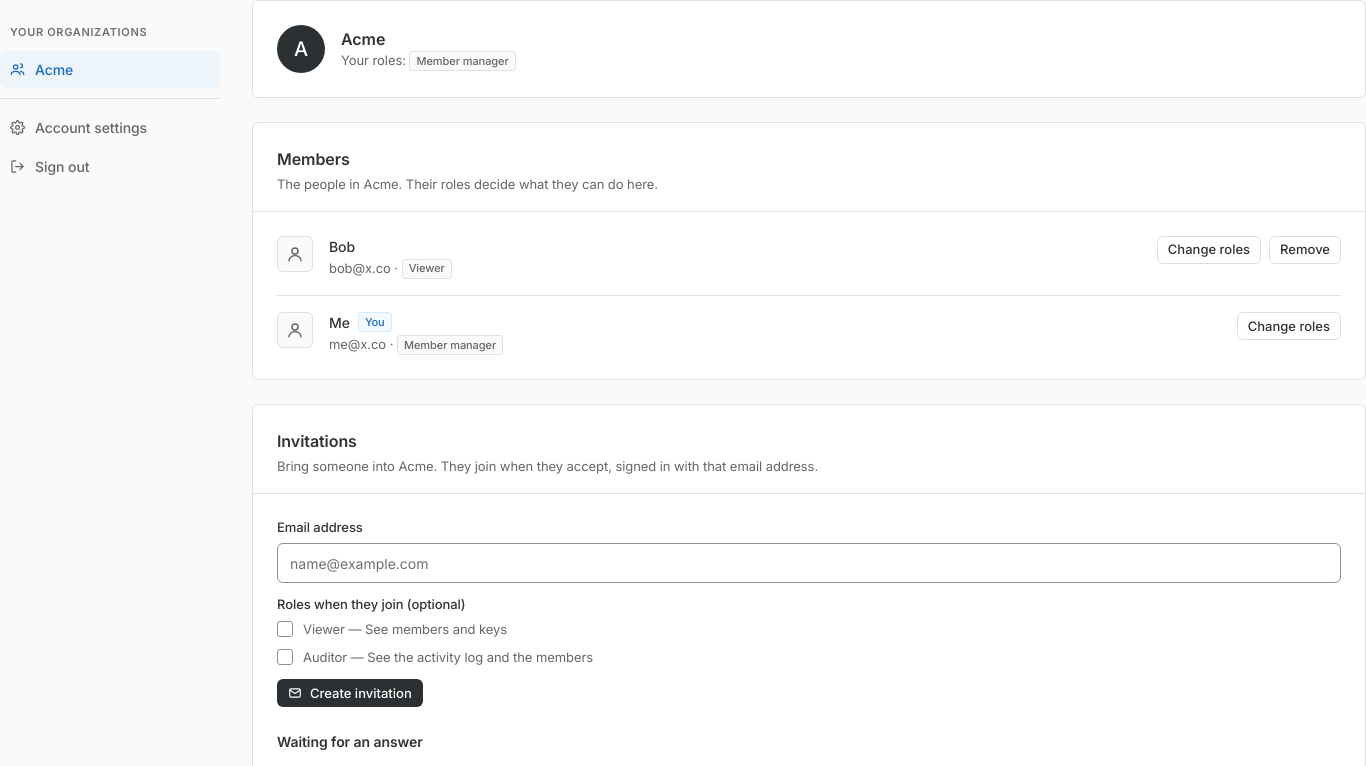
Test: AccountView › shows a role refusal in words
This screenshot has width=1366, height=766.
Step 1. Click the button with aria-label "Change roles of Bob" → (1209, 250), box [1157,236,1261,264]
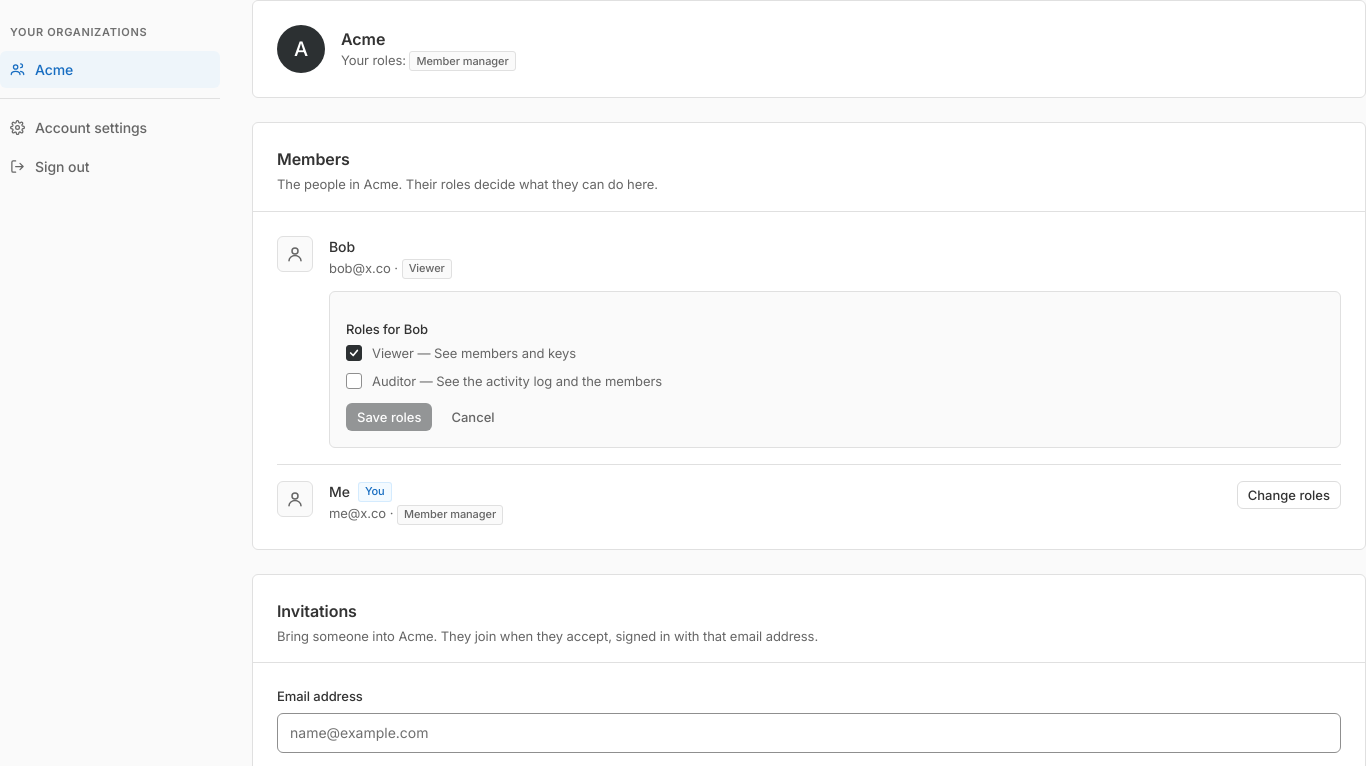
Step 2. Click the text "Auditor" → (517, 382), box [372,372,662,392]
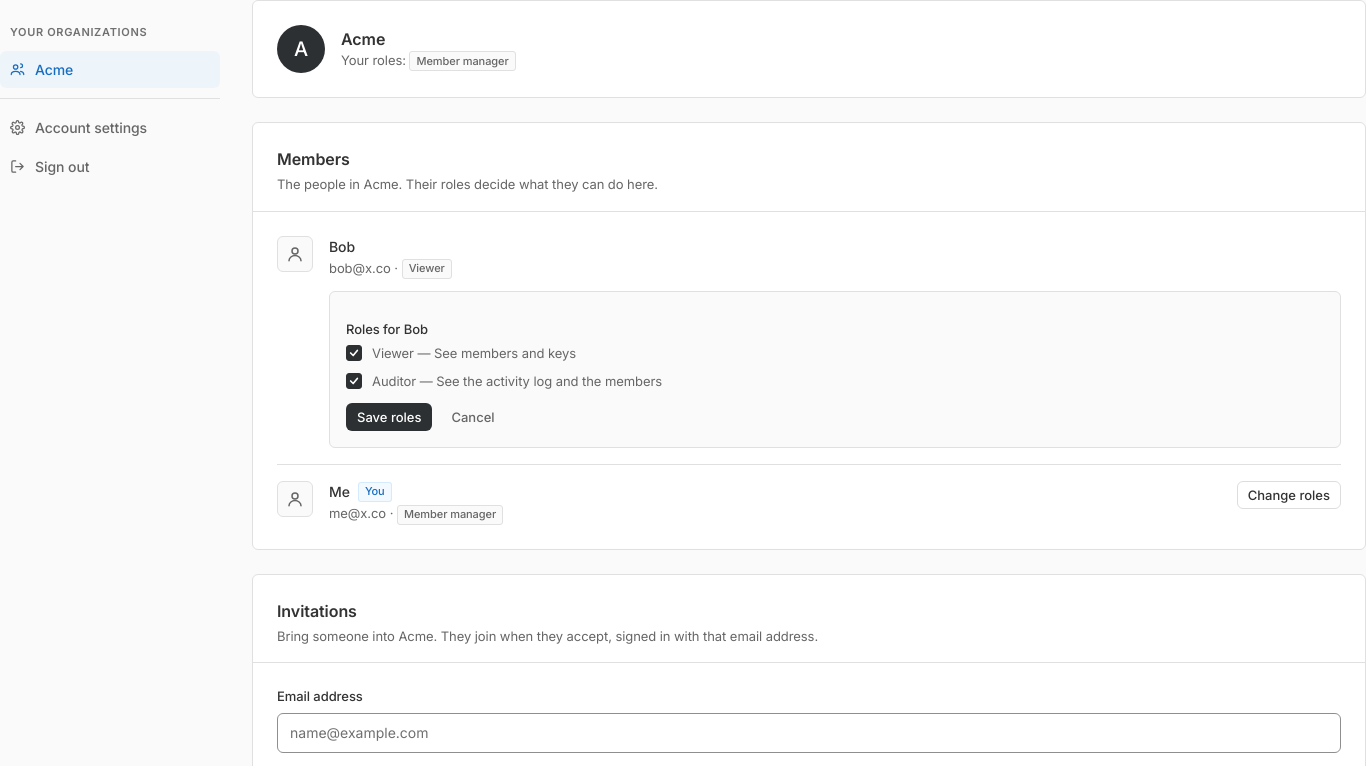
Step 3. Click the button "Save roles" → (389, 418), box [346,404,432,432]
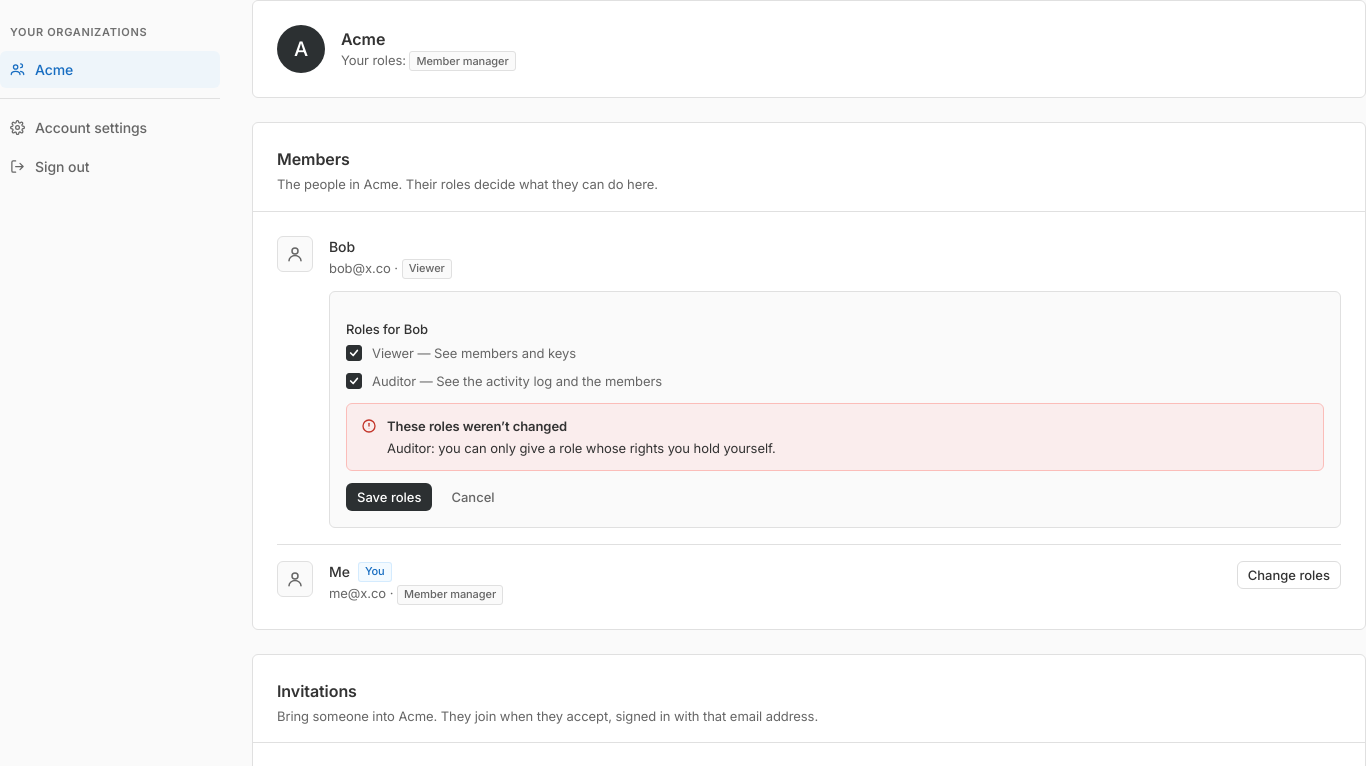
Expected: the text "Auditor: you can only give a role whose rights you hold yourself" is shown, [387,440,776,456]
